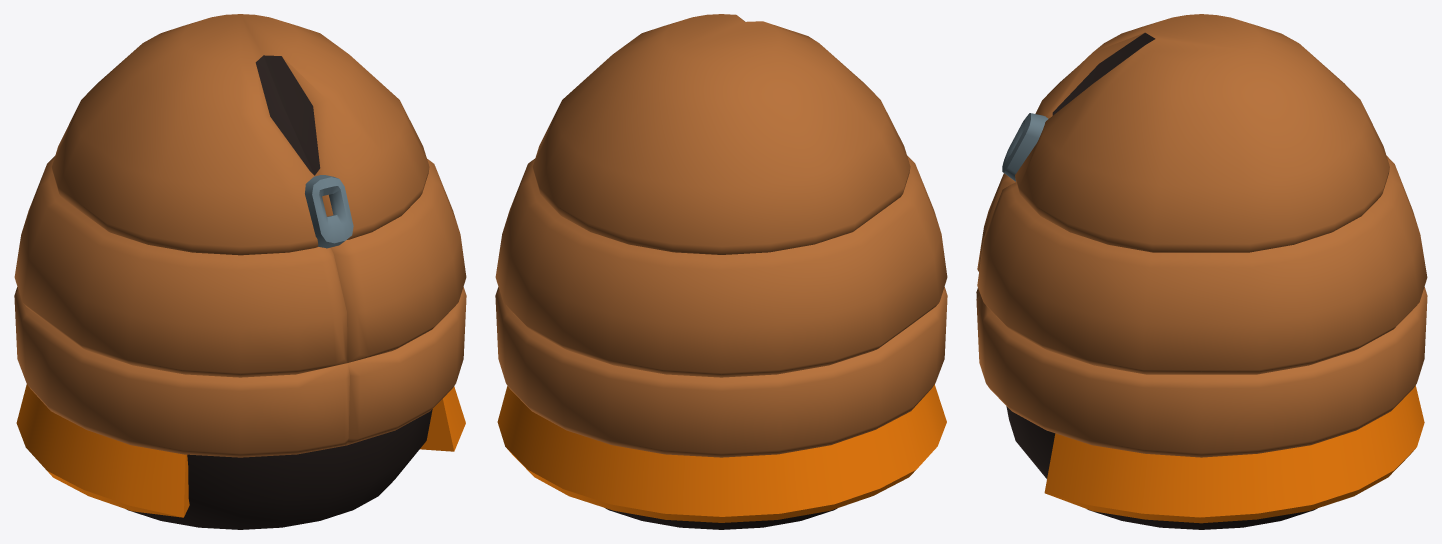
File: character_explorerBody.obj
3 renders of one model, left to right at view 1: azimuth 30°, elevation 25°; view 2: azimuth 150°, elevation 25°; view 3: azimuth 270°, elevation 25°, orthographic.
Parts seen in each view (by area): view 1: character_explorerBody_Cube.237; view 2: character_explorerBody_Cube.237; view 3: character_explorerBody_Cube.237.
Boxes of the visible parts, x1=… form: character_explorerBody_Cube.237: x1=14, y1=14, x2=466, y2=529; character_explorerBody_Cube.237: x1=495, y1=14, x2=947, y2=529; character_explorerBody_Cube.237: x1=976, y1=14, x2=1427, y2=529.
Bounding box in the file's own units: 0.6966 × 0.7256 × 0.7001.
